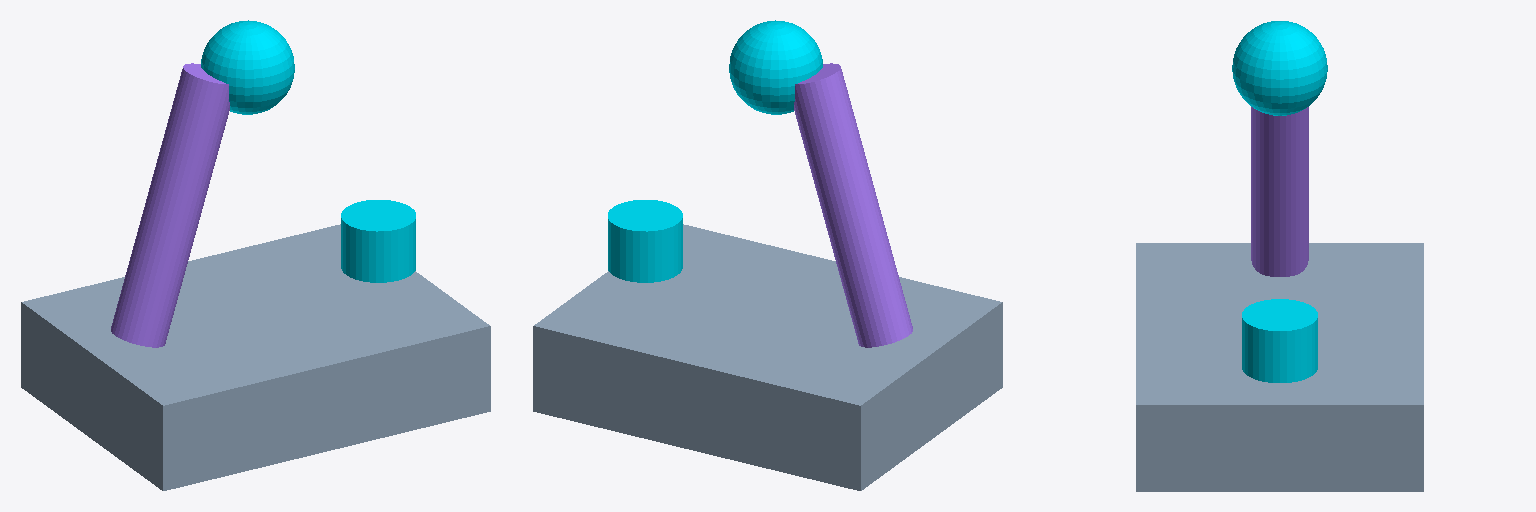
The robot description file, URDF, robot "visor_sample":
<?xml version="1.0"?>
<!-- Primitive-only sample for the RobotModel display; feed it to robot_state_publisher to exercise the /tf path. -->
<robot name="visor_sample">

  <material name="visor_cyan">
    <color rgba="0.0 0.9 1.0 1.0"/>
  </material>

  <link name="base_link">
    <visual name="body">
      <geometry>
        <box size="0.4 0.3 0.1"/>
      </geometry>
      <material name="visor_body">
        <color rgba="0.62 0.70 0.78 1.0"/>
      </material>
    </visual>
  </link>

  <link name="laser_link">
    <visual>
      <geometry>
        <cylinder radius="0.04" length="0.06"/>
      </geometry>
      <material name="visor_cyan"/>
    </visual>
  </link>

  <link name="arm_link">
    <visual>
      <origin xyz="0.0 0.0 0.15" rpy="0.0 0.3 0.0"/>
      <geometry>
        <cylinder radius="0.03" length="0.30"/>
      </geometry>
      <material name="visor_purple">
        <color rgba="0.70 0.53 1.0 1.0"/>
      </material>
    </visual>
  </link>

  <link name="hand_link">
    <visual>
      <geometry>
        <sphere radius="0.05"/>
      </geometry>
      <material name="visor_cyan"/>
    </visual>
  </link>

  <link name="bumper_link">
    <collision>
      <geometry>
        <box size="0.05 0.3 0.08"/>
      </geometry>
    </collision>
  </link>

  <joint name="base_to_laser" type="fixed">
    <origin xyz="0.15 0.0 0.1" rpy="0.0 0.0 0.0"/>
    <parent link="base_link"/>
    <child link="laser_link"/>
  </joint>

  <joint name="base_to_arm" type="revolute">
    <origin xyz="-0.1 0.0 0.05" rpy="0.0 0.0 0.0"/>
    <parent link="base_link"/>
    <child link="arm_link"/>
    <axis xyz="0 0 1"/>
    <limit lower="-3.14" upper="3.14" effort="10.0" velocity="1.0"/>
  </joint>

  <joint name="arm_to_hand" type="revolute">
    <origin xyz="0.09 0.0 0.29" rpy="0.0 0.0 0.0"/>
    <parent link="arm_link"/>
    <child link="hand_link"/>
    <axis xyz="0 1 0"/>
    <limit lower="-1.57" upper="1.57" effort="10.0" velocity="1.0"/>
  </joint>

  <joint name="base_to_bumper" type="fixed">
    <origin xyz="0.22 0.0 0.0" rpy="0.0 0.0 0.0"/>
    <parent link="base_link"/>
    <child link="bumper_link"/>
  </joint>

</robot>

--- Render facts (derived) ---
3 views of the same robot in one strip: view 1: azimuth 30°, elevation 25°; view 2: azimuth 150°, elevation 25°; view 3: azimuth 270°, elevation 25° (orthographic).
Model visor_sample with 5 links and 4 joints (2 revolute, 2 fixed), rooted at base_link, posed all joints at 0.
Links seen in each view (by area): view 1: base_link, arm_link, hand_link, laser_link; view 2: base_link, arm_link, hand_link, laser_link; view 3: base_link, arm_link, hand_link, laser_link.
Link boxes in pixels (x1,y1,x2,y2): base_link: (21, 224, 490, 490); arm_link: (111, 63, 229, 347); hand_link: (201, 20, 294, 114); laser_link: (341, 200, 415, 282); base_link: (533, 224, 1002, 490); arm_link: (794, 63, 912, 347); hand_link: (729, 20, 822, 114); laser_link: (608, 200, 682, 282); base_link: (1136, 243, 1423, 491); arm_link: (1251, 107, 1308, 276); hand_link: (1232, 21, 1327, 115); laser_link: (1242, 299, 1317, 382).
Bounding box of the posed robot: 0.4 × 0.3 × 0.44 m (x, y, z).
Geometry: primitives only (box / cylinder / sphere), no mesh files.
